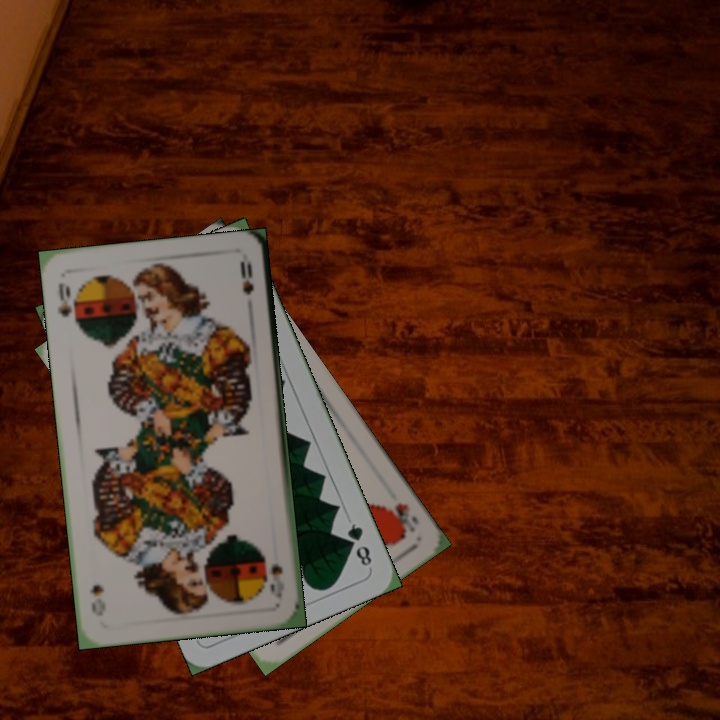G8: (343, 519, 375, 569)
HO: (384, 499, 422, 540)
SO: (53, 279, 80, 327), (266, 559, 287, 601)
